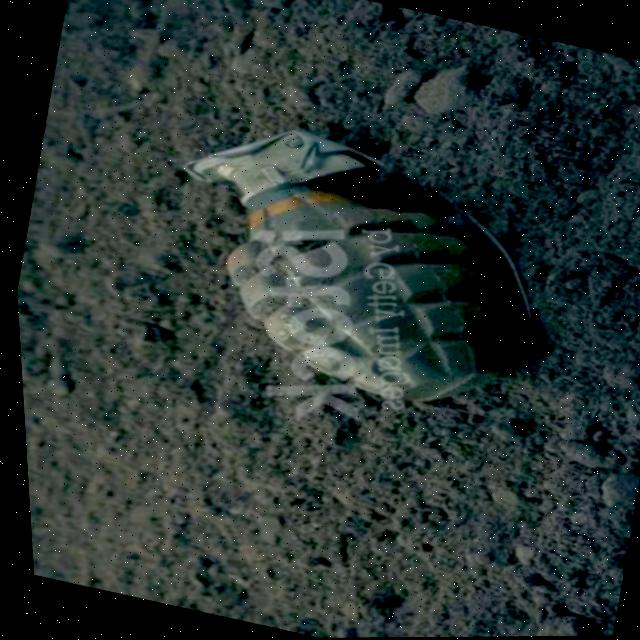grenade: (103, 45, 603, 489)
